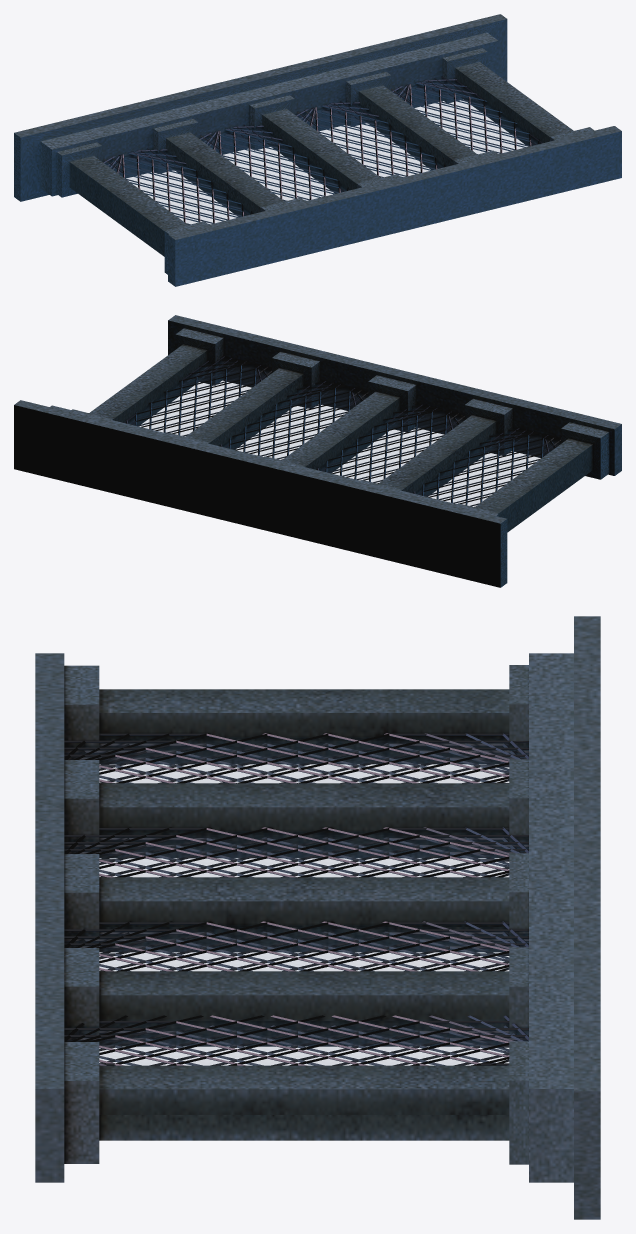
The model's file is wall.gltf.
3 views of the same model, one above another, from view 1: azimuth 30°, elevation 25°; view 2: azimuth 150°, elevation 25°; view 3: azimuth 270°, elevation 25° (orthographic). The views are drawn at different scales.
Visible parts, largest first — view 1: Cube.001; view 2: Cube.001; view 3: Cube.001.
Boxes of the visible parts, box(x1,y1,x2,y2) form: Cube.001: box(14, 14, 621, 286); Cube.001: box(14, 315, 621, 587); Cube.001: box(35, 616, 600, 1219).
Bounding box in the file's own units: 23.03 × 2.9 × 11.59.
